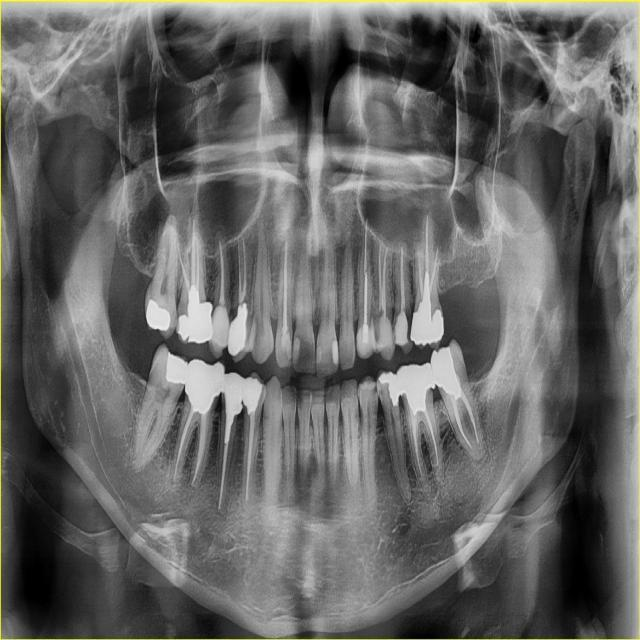71: (362, 272, 368, 342)
74: (170, 403, 196, 483), (457, 385, 485, 444), (448, 392, 472, 451), (191, 409, 209, 487), (242, 410, 256, 500), (409, 404, 425, 481), (423, 408, 442, 467), (216, 441, 229, 509), (177, 242, 193, 296), (377, 243, 388, 314), (413, 245, 426, 301), (282, 247, 290, 333), (427, 246, 441, 295), (218, 239, 227, 306), (238, 237, 246, 304), (399, 247, 405, 310), (363, 216, 369, 275), (190, 218, 195, 286), (195, 241, 200, 292), (425, 215, 429, 273)
NucleOSS Implant: (410, 271, 450, 348), (393, 358, 441, 416), (182, 358, 226, 416), (177, 284, 213, 345), (427, 345, 464, 403), (222, 372, 245, 444), (377, 367, 410, 407), (227, 302, 248, 359), (164, 351, 190, 385), (145, 300, 170, 332), (242, 376, 262, 416)
Sterngold Implant: (174, 295, 188, 325), (405, 307, 414, 341), (371, 383, 378, 399), (377, 385, 384, 398)
Straumann Implant: (207, 304, 232, 359), (376, 316, 394, 362), (355, 326, 376, 360), (393, 310, 408, 345), (281, 329, 292, 362), (330, 340, 339, 364), (292, 339, 300, 363), (316, 344, 322, 364)
